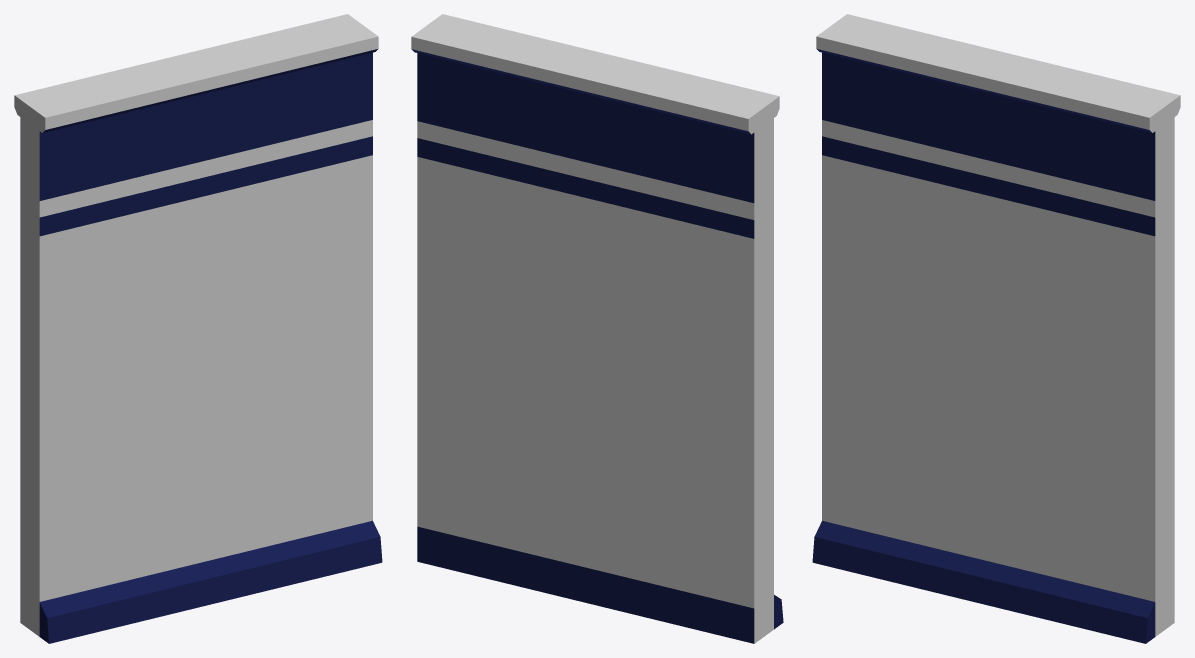
Rendered from wall_1.glb.
3 views of the same model, side by side, from view 1: azimuth 30°, elevation 25°; view 2: azimuth 150°, elevation 25°; view 3: azimuth 330°, elevation 25° (orthographic).
Parts seen in each view (by area): view 1: Cube; view 2: Cube; view 3: Cube.
Part boxes in pixels (box(x1,y1,x2,y2)): Cube: box(14, 14, 382, 643); Cube: box(411, 14, 783, 643); Cube: box(812, 14, 1180, 643).
Size of the model in its own units: 2 by 3 by 0.36.
